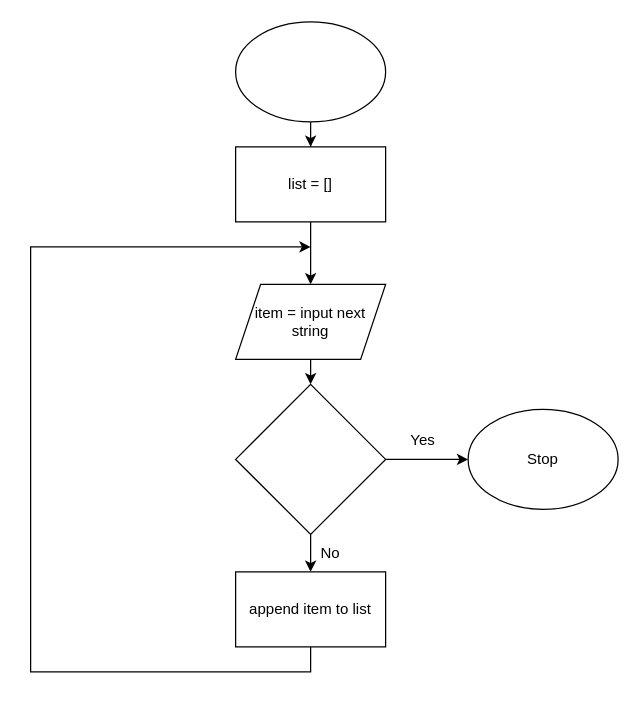
This 640x704 diagram has some shape labels left out. Each missing label, with the box of its shape:
does item = code to terminate: (234, 383, 386, 534)
Start: (234, 21, 386, 122)
